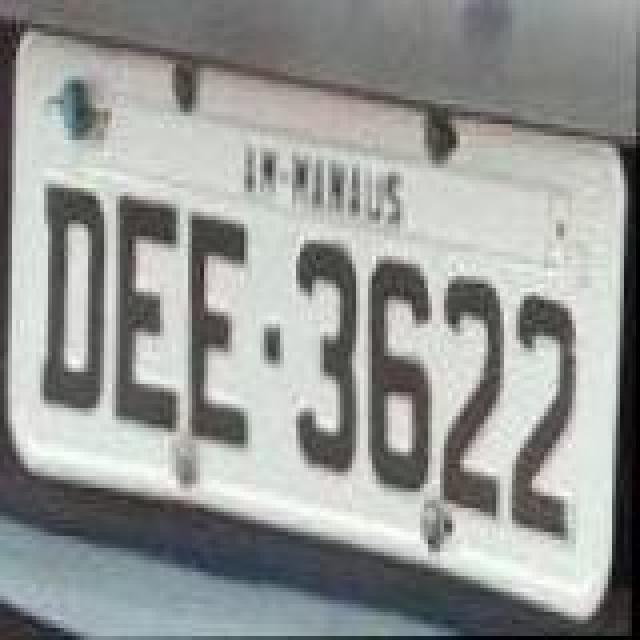2: (512, 290, 584, 542), (442, 276, 510, 520)
3: (292, 238, 364, 478)
6: (370, 256, 438, 492)
D: (40, 180, 112, 412)
E: (114, 190, 182, 434), (186, 212, 254, 448)
